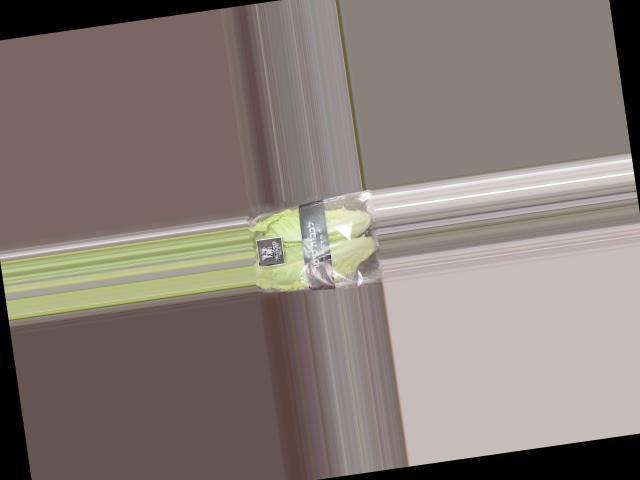lettuce: (246, 189, 384, 293)
